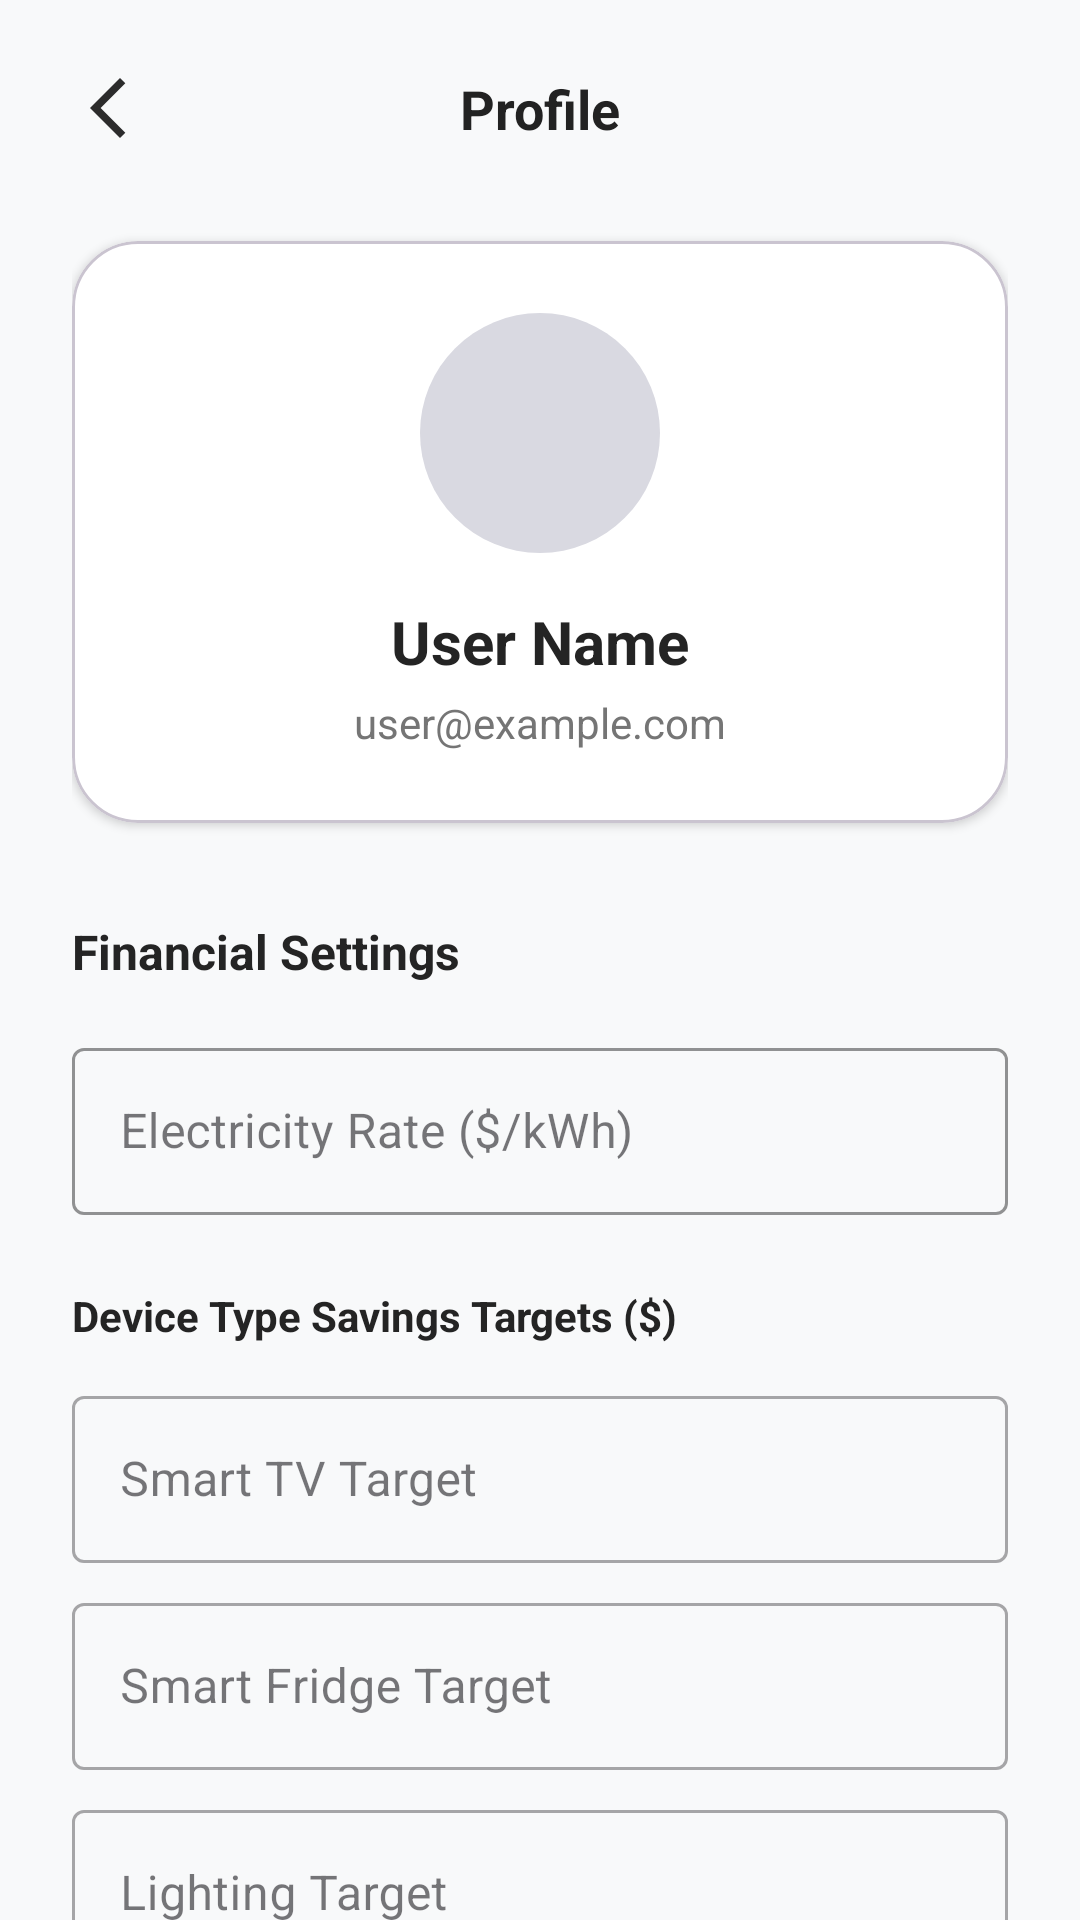

Icon click points for this 1080x1920 phone screenshot, format (x=x, y=y):
arrow back: (x=107, y=108)
